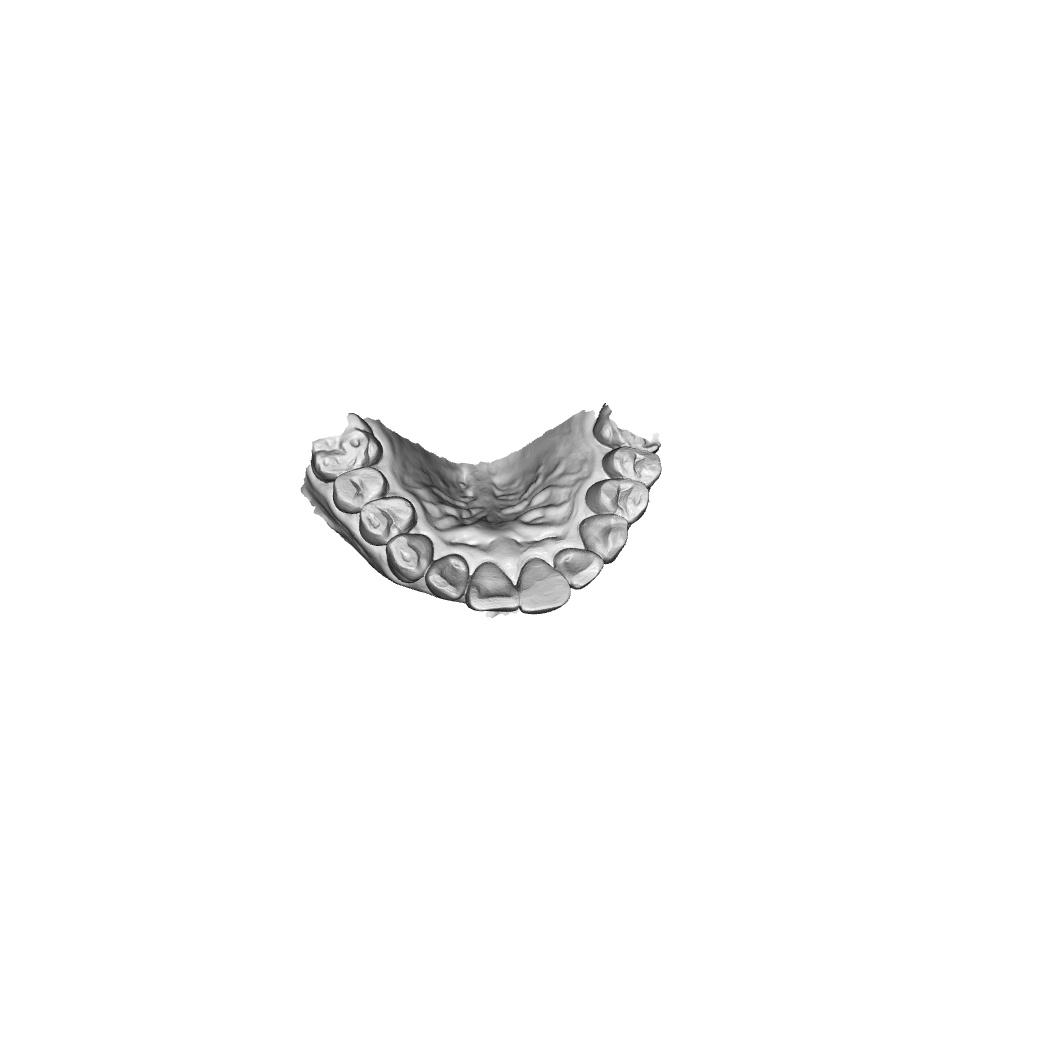canine: (579, 513, 630, 565), (385, 532, 435, 584)
incisor: (518, 557, 572, 616), (464, 561, 520, 613), (552, 547, 605, 590), (424, 553, 470, 601)
molar: (309, 411, 384, 484)
premolar: (585, 478, 650, 526), (357, 496, 417, 547), (332, 466, 390, 515), (601, 445, 662, 488)
